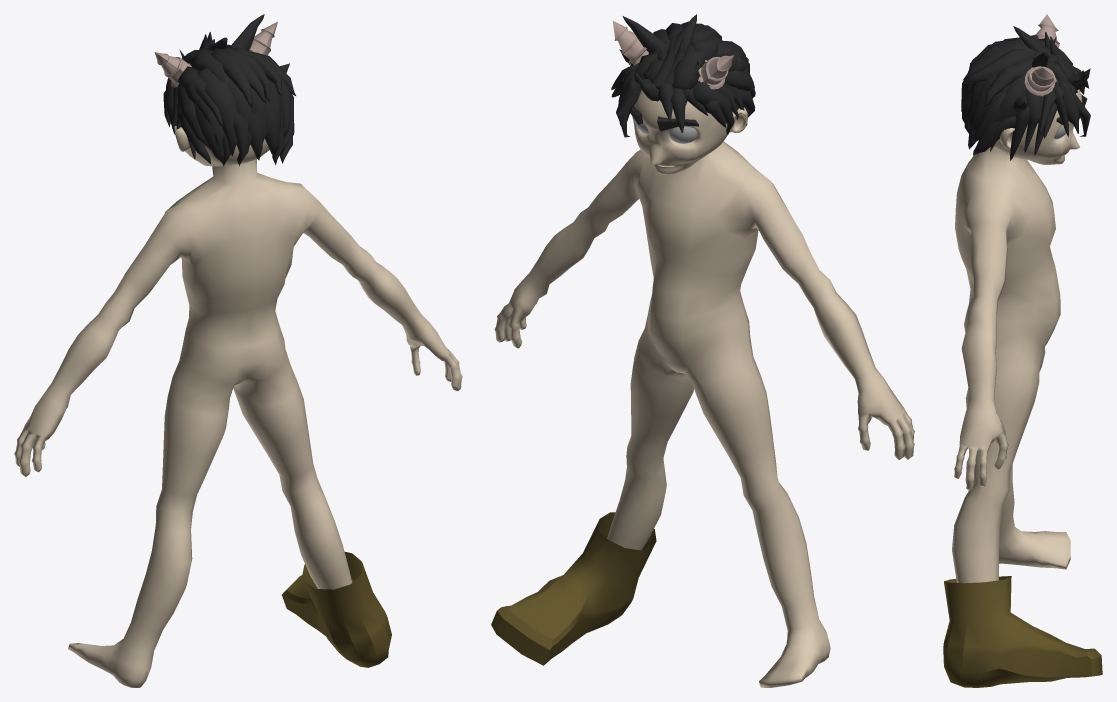
File: soulier1.fbx
The picture shows the model from 3 angles, left to right: view 1: azimuth 30°, elevation 25°; view 2: azimuth 150°, elevation 25°; view 3: azimuth 270°, elevation 25°; orthographic projection. The views are drawn at different scales.
Parts seen in each view (by area): view 1: CharacterFullAlienConspiracyStyle2:Alien02, polySurface83; view 2: CharacterFullAlienConspiracyStyle2:Alien02, polySurface83; view 3: CharacterFullAlienConspiracyStyle2:Alien02, polySurface83.
Boxes of the visible parts, bbox=[...] form: CharacterFullAlienConspiracyStyle2:Alien02: bbox=[14, 14, 462, 687]; polySurface83: bbox=[282, 552, 391, 667]; CharacterFullAlienConspiracyStyle2:Alien02: bbox=[494, 14, 914, 687]; polySurface83: bbox=[491, 512, 656, 665]; CharacterFullAlienConspiracyStyle2:Alien02: bbox=[952, 14, 1090, 583]; polySurface83: bbox=[943, 576, 1102, 687].
Size of the model in its own units: 116 by 167 by 39.88.
